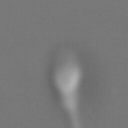abnormal: (53, 92, 93, 128)
